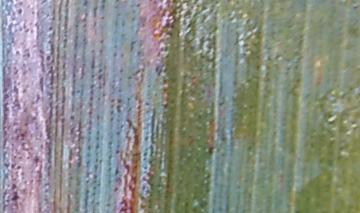tarspot: (153, 63, 164, 77), (37, 75, 47, 90), (11, 84, 21, 96), (32, 155, 41, 168), (91, 5, 99, 19), (10, 190, 19, 202), (129, 39, 136, 52), (206, 144, 214, 155), (159, 101, 169, 109), (67, 112, 76, 120), (43, 54, 52, 62), (16, 7, 24, 16), (81, 1, 90, 8), (10, 182, 17, 190), (19, 132, 25, 141), (3, 162, 10, 169), (9, 162, 16, 169), (98, 38, 105, 45), (47, 25, 53, 33), (16, 164, 23, 170), (112, 187, 119, 193), (25, 51, 31, 58), (14, 49, 21, 55), (255, 64, 260, 72), (98, 48, 104, 54), (39, 1, 48, 5), (47, 39, 52, 45), (112, 51, 116, 58), (135, 2, 140, 7)
